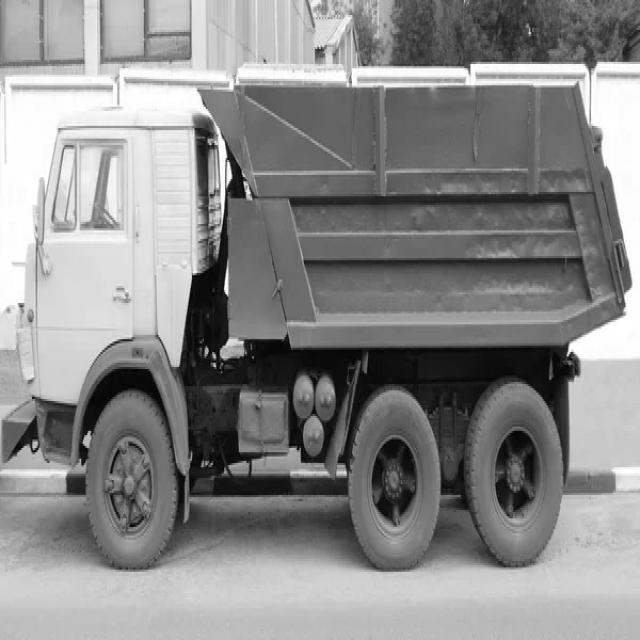Truck: (2, 70, 633, 570)
